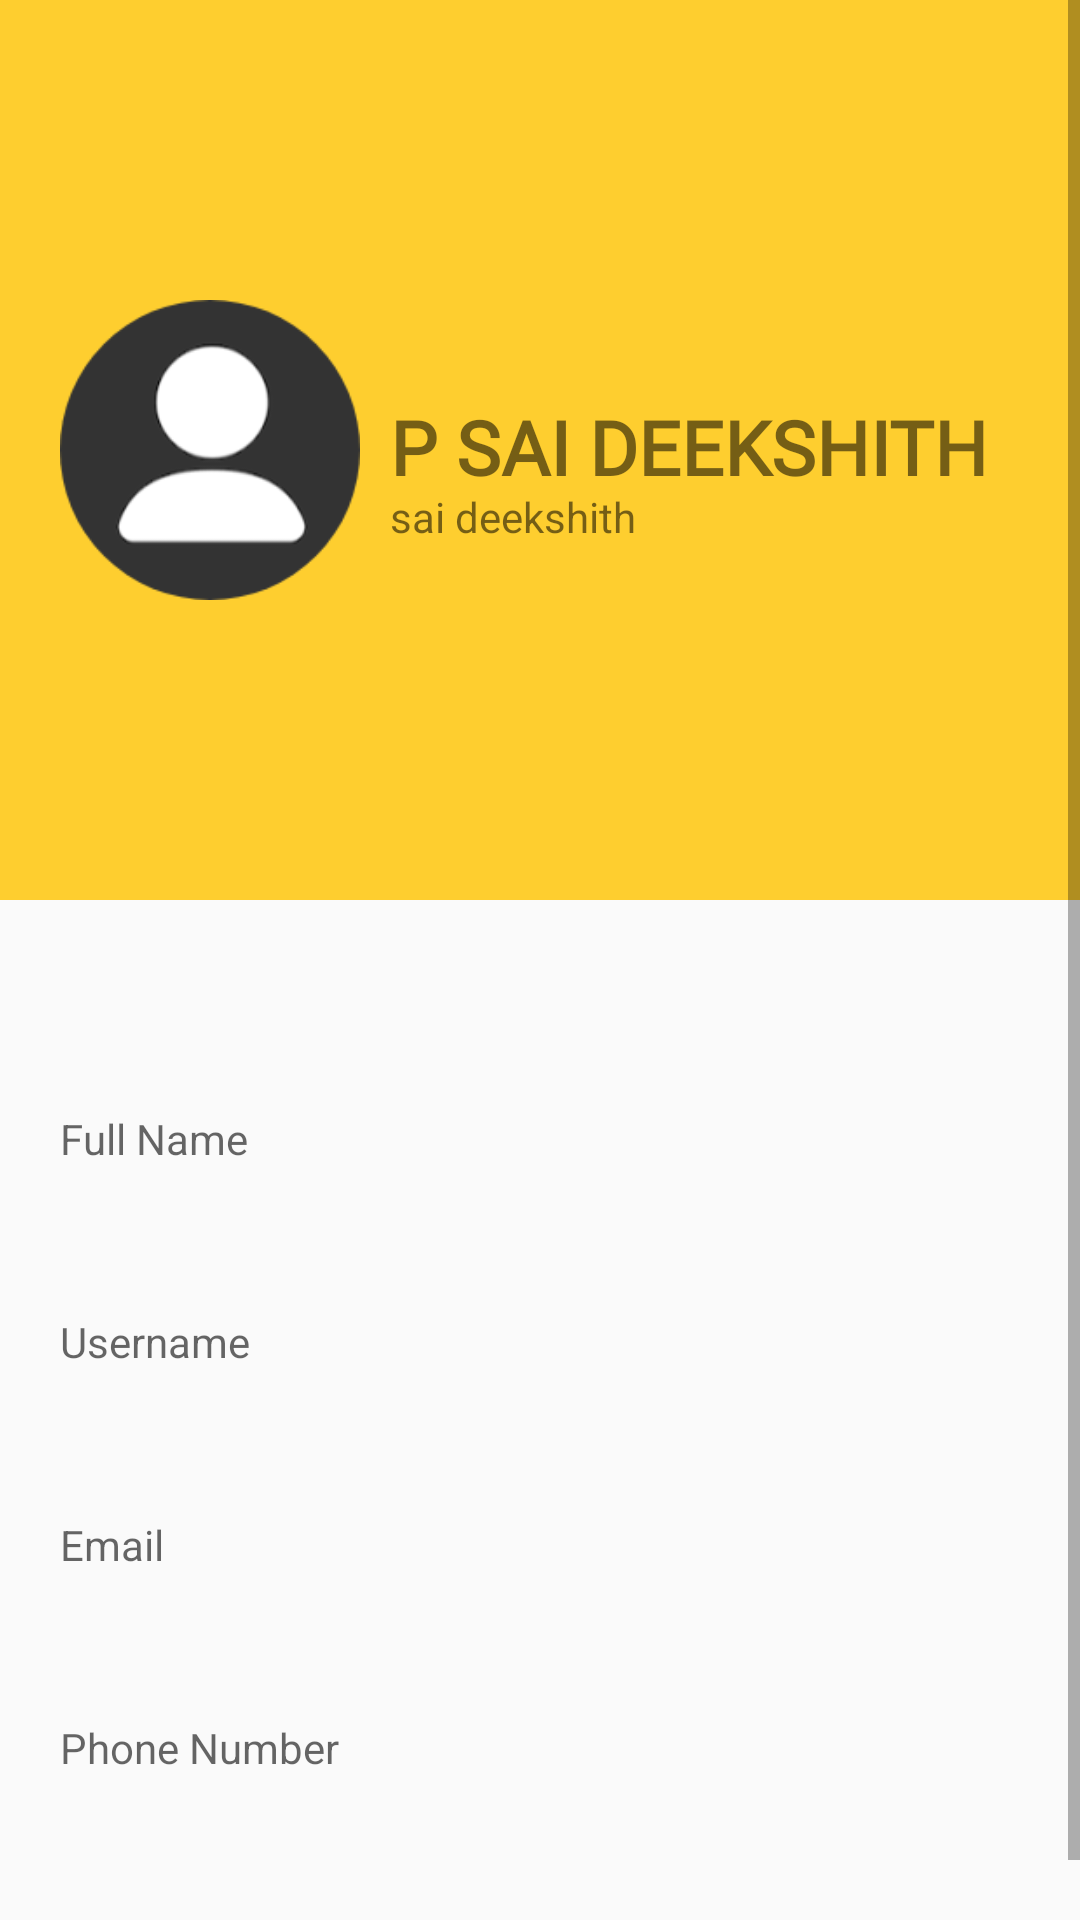

Screen size 1080*1920. Icon name, then its box in pixels as (x1, y1, x2, y2):
profile: (60, 300, 360, 600)
